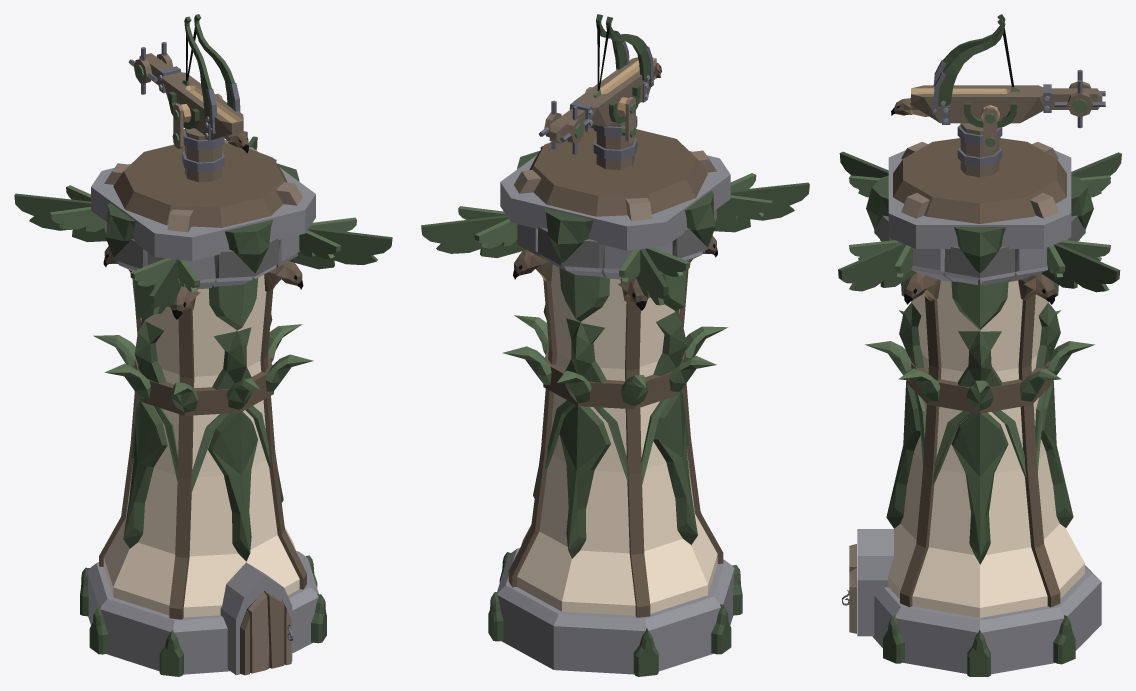
File: _Ballista_tower_LVL_4.fbx
3 renders of one model, left to right at view 1: azimuth 30°, elevation 25°; view 2: azimuth 150°, elevation 25°; view 3: azimuth 270°, elevation 25°, orthographic. The views are drawn at different scales.
Visible parts, largest first — view 1: Ballista_tower_LVL_4, Ballista_tower_LVL_4.001; view 2: Ballista_tower_LVL_4, Ballista_tower_LVL_4.001; view 3: Ballista_tower_LVL_4, Ballista_tower_LVL_4.001.
Boxes of the visible parts, x1,y1,x2,y2 form: Ballista_tower_LVL_4: (14, 128, 392, 676); Ballista_tower_LVL_4.001: (128, 14, 248, 153); Ballista_tower_LVL_4: (421, 116, 809, 676); Ballista_tower_LVL_4.001: (539, 14, 661, 154); Ballista_tower_LVL_4: (838, 123, 1121, 676); Ballista_tower_LVL_4.001: (891, 14, 1105, 151).
Size of the model in its own units: 662 by 1564 by 662.
